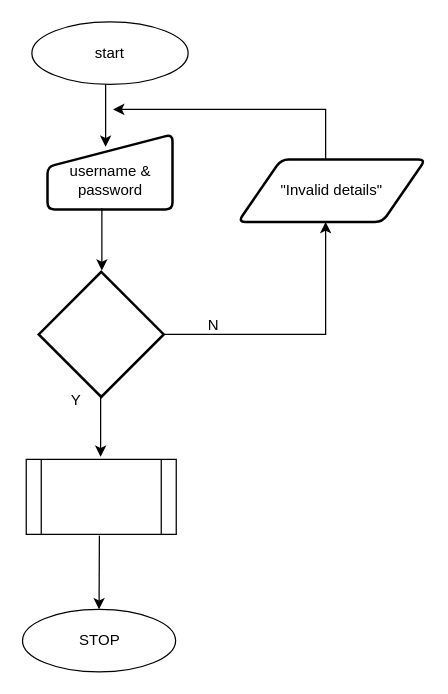
The diagram is 448 pixels wide and 694 high, and some of its shapes have lost their labels. Each missing label, with the centre of its shape:
"is details correct?" belongs at (x=100, y=334).
"proceed to dashboard" belongs at (x=100, y=496).
